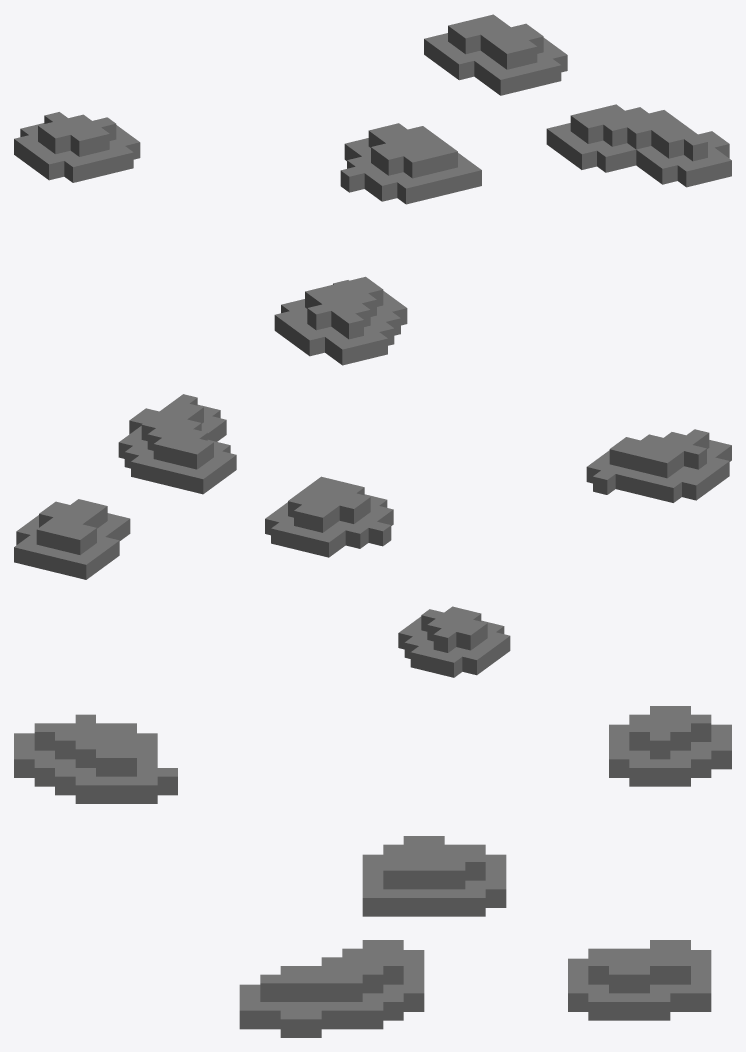
The model's file is Small Rocks.obj.
The picture shows the model from 3 angles, top to bottom: view 1: azimuth 30°, elevation 25°; view 2: azimuth 150°, elevation 25°; view 3: azimuth 270°, elevation 25°; orthographic projection. The views are drawn at different scales.
Visible parts, largest first — view 1: Small Rocks; view 2: Small Rocks; view 3: Small Rocks.
Part boxes in pixels (x1,y1,x2,y2): Small Rocks: (14, 14, 731, 365); Small Rocks: (14, 394, 731, 677); Small Rocks: (14, 706, 731, 1037).
Size of the model in its own units: 35 by 2 by 35.
